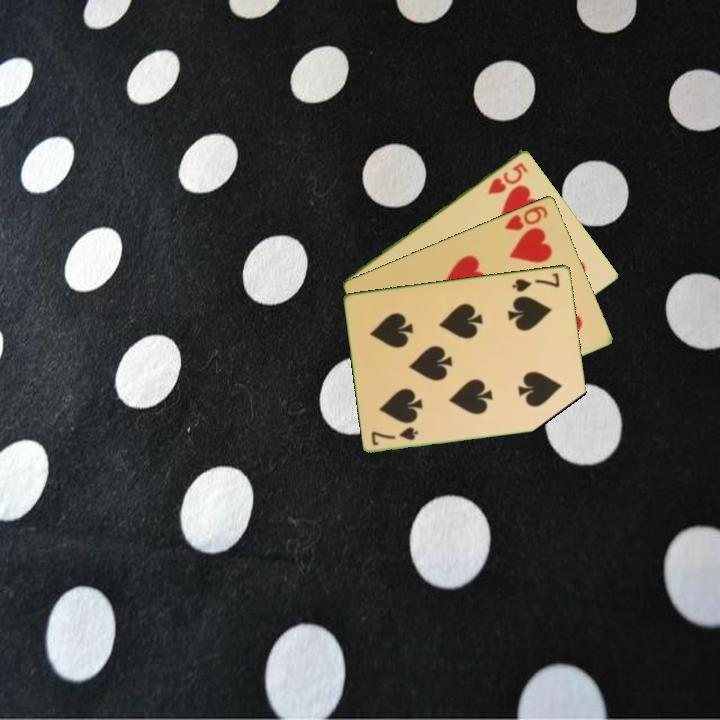5h: (484, 159, 531, 197)
6h: (501, 202, 551, 233)
7s: (509, 269, 563, 294), (368, 423, 421, 448)
